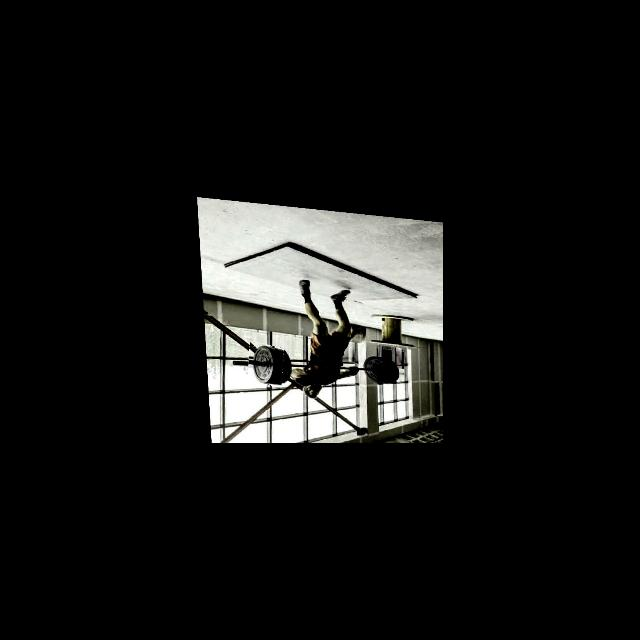barbell: (245, 340, 282, 385)
